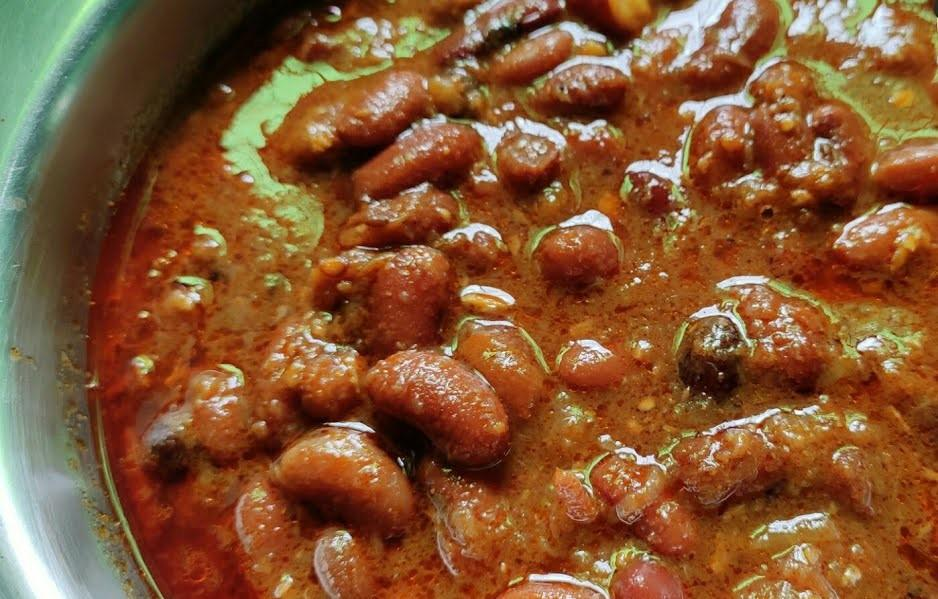RajmaCurry: (91, 0, 938, 599)
